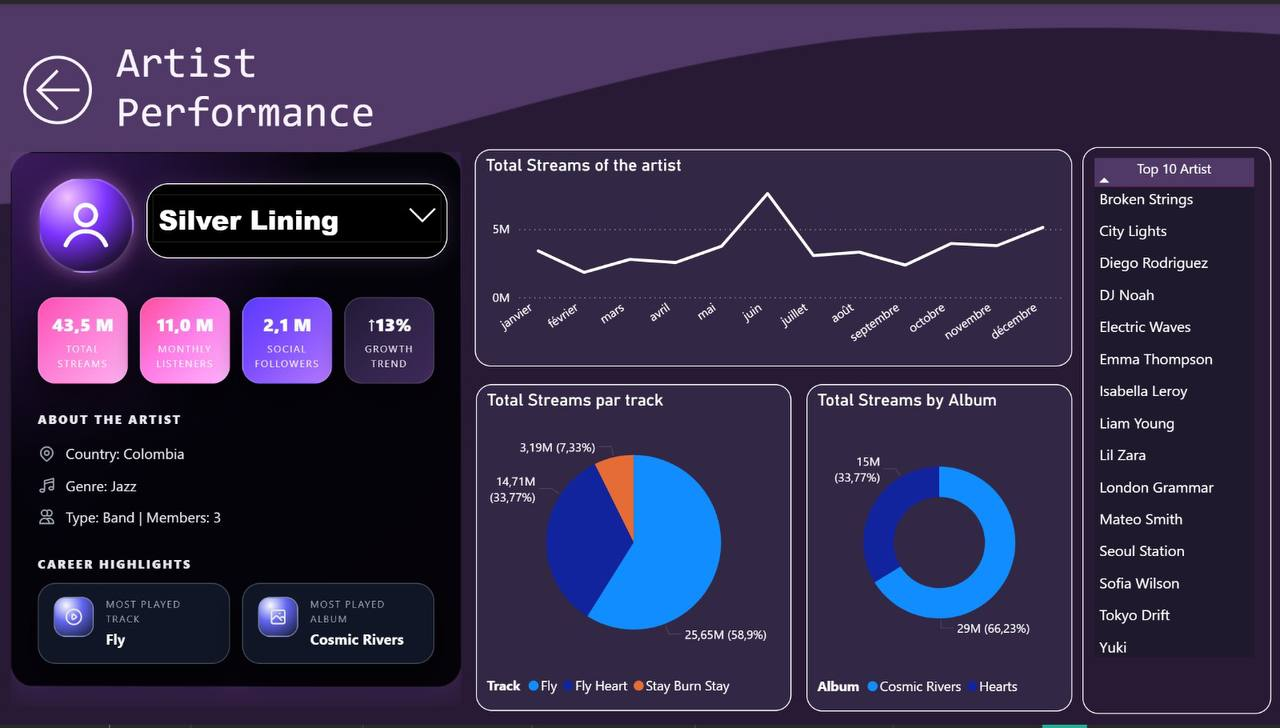

This screenshot's page, from the dashboard's own definition file:
{"tool":"powerbi","page":{"name":"Artist Performance","canvas":[1280,720],"ordinal":3},"visuals":[{"type":"textbox","box":[112.5,28.8,423.8,113.8],"z":0},{"type":"lineChart","title":"Total Streams of the artist","fields":{"Category":["Date.Date.Variation.Hiérarchie de dates.Trimestre","Date.Date.Variation.Hiérarchie de dates.Mois","Date.Date.Variation.Hiérarchie de dates.Jour"],"Y":["_Measures.Total Streams"]},"box":[475.2,145.6,596.5,216.9],"z":1000},{"type":"htmlContent443BE3AD55E043BF878BED274D3A6865","fields":{"content":["_Measures.HTML"]},"box":[6.2,142.5,460,563.8],"z":2000},{"type":"donutChart","title":"Total Streams by Album","fields":{"Category":["albums.album_name"],"Y":["_Measure.Total Streams by Album"]},"box":[806.2,379.6,265.4,326.8],"z":3000},{"type":"pieChart","title":"Total Streams par track","fields":{"Category":["Tracks.track_name"],"Y":["daily_streams.Total Streams"]},"box":[476.2,380,315,326.2],"z":4000},{"type":"slicer","fields":{"Values":["Artists.artist_name"]},"box":[147.3,179.2,300.7,74.9],"z":5000},{"type":"tableEx","title":"Top 10 artists","fields":{"Values":["daily_streams.artist_name"]},"box":[1081.6,142.7,188.4,566.5],"z":6000},{"type":"actionButton","box":[15.7,42.8,99.9,85.6],"z":7000}]}

Visuals, with their boxes in screenshot pixels (x1, y1, x2, y2), scaled from the page's 1280x720 canvas onto the 1280x728 screenshot:
textbox: Rect(112, 29, 536, 144)
"Total Streams of the artist" lineChart: Rect(475, 147, 1072, 367)
htmlContent443BE3AD55E043BF878BED274D3A6865 - _Measures.HTML: Rect(6, 144, 466, 714)
"Total Streams by Album" donutChart: Rect(806, 384, 1072, 714)
"Total Streams par track" pieChart: Rect(476, 384, 791, 714)
slicer - Artists.artist_name: Rect(147, 181, 448, 257)
"Top 10 artists" tableEx: Rect(1082, 144, 1270, 717)
actionButton: Rect(16, 43, 116, 130)
